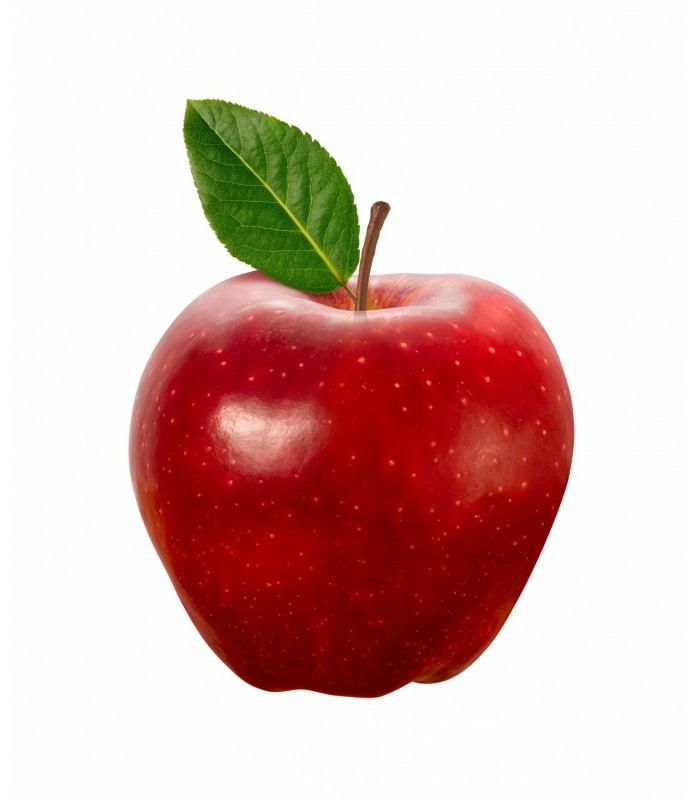fresh_apple: (128, 272, 578, 697)
